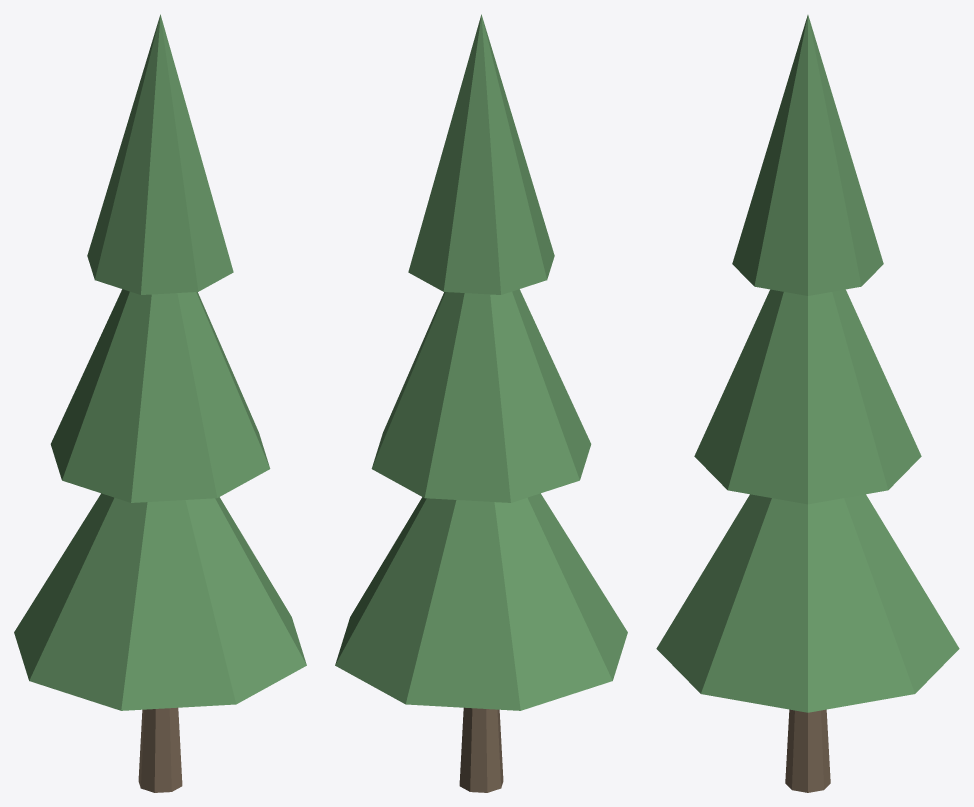
The model's file is pine_small.glb.
3 views of the same model, side by side, from view 1: azimuth 30°, elevation 25°; view 2: azimuth 150°, elevation 25°; view 3: azimuth 270°, elevation 25° (orthographic).
Visible parts, largest first — view 1: Pine; view 2: Pine; view 3: Pine.
Boxes of the visible parts, x1,y1,x2,y2 form: Pine: (14,14,306,792); Pine: (335,14,627,792); Pine: (656,15,959,792).
Size of the model in its own units: 0.5 by 1.4 by 0.5.
